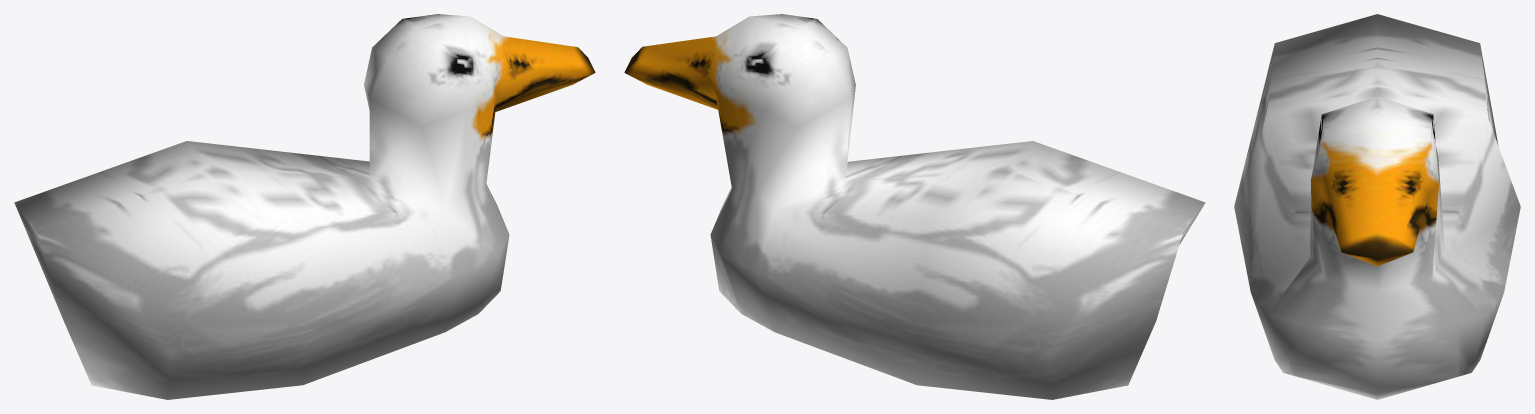
The model's file is duck2.glb.
3 views of the same model, side by side, from view 1: azimuth 30°, elevation 25°; view 2: azimuth 150°, elevation 25°; view 3: azimuth 270°, elevation 25° (orthographic). The views are drawn at different scales.
Parts seen in each view (by area): view 1: duck.jpg__; view 2: duck.jpg__; view 3: duck.jpg__.
Boxes of the visible parts, <box> form: duck.jpg__: <box>14,14,595,399</box>; duck.jpg__: <box>624,14,1205,399</box>; duck.jpg__: <box>1234,14,1520,399</box>.
Size of the model in its own units: 16.44 by 8.47 by 7.04.
Materials: 1 (1 with a texture image).
